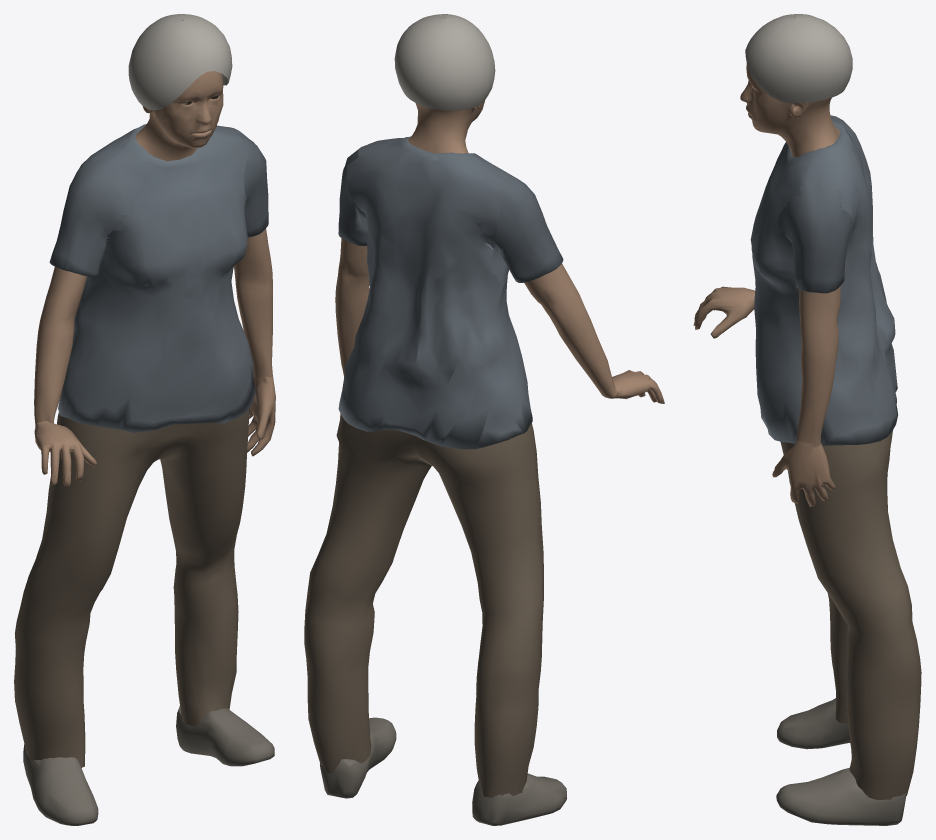
Rendered from participant-22-middle.glb.
3 renders of one model, left to right at view 1: azimuth 30°, elevation 25°; view 2: azimuth 150°, elevation 25°; view 3: azimuth 270°, elevation 25°, orthographic. The views are drawn at different scales.
Parts seen in each view (by area): view 1: Participant anatomy and ordinary clothes; view 2: Participant anatomy and ordinary clothes; view 3: Participant anatomy and ordinary clothes.
Boxes of the visible parts, box(x1,y1,x2,y2) form: Participant anatomy and ordinary clothes: box(14, 14, 275, 825); Participant anatomy and ordinary clothes: box(304, 14, 664, 825); Participant anatomy and ordinary clothes: box(693, 14, 921, 825).
Size of the model in its own units: 0.6122 by 1.62 by 0.4334.
